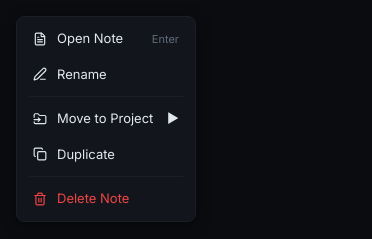
Scenario: NoteContextMenu edge cases › handles empty projects array
Check: the text "Move to Project" is shown, box [57, 109, 153, 128]
Hover to show submenu
Hover over the text "Move to Project": point(106, 119) [21, 101, 191, 136]
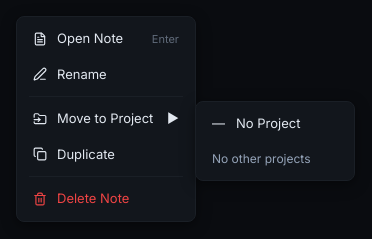
Check: the text "No Project" is shown, box [236, 114, 300, 134]
